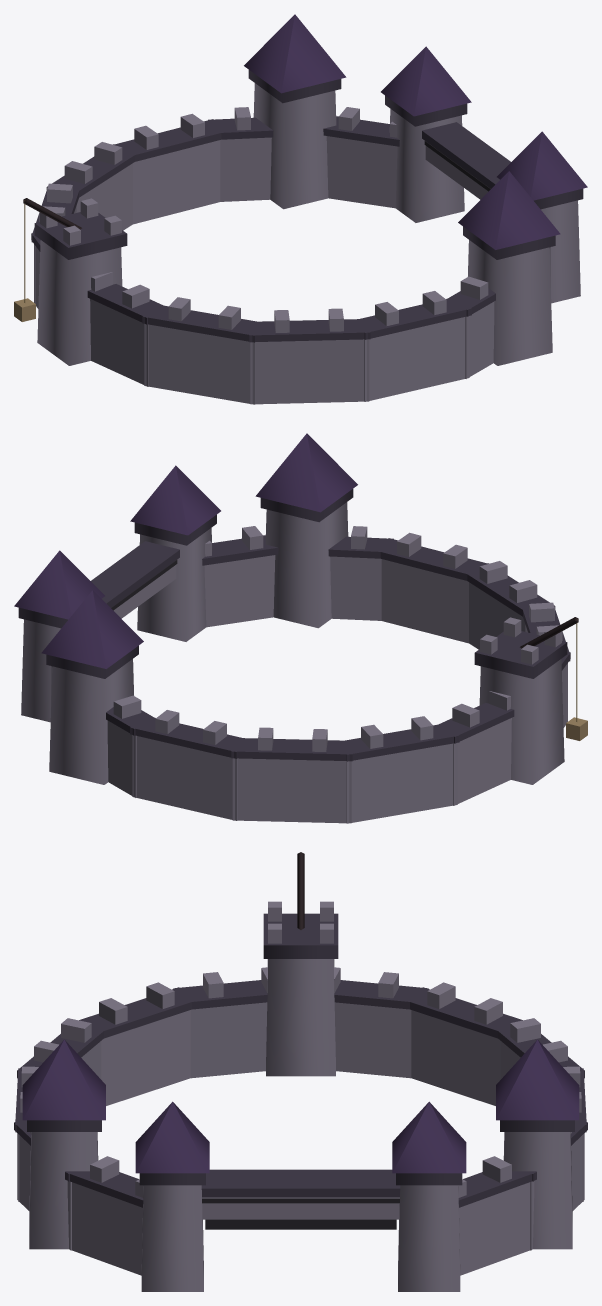
Rendered from base_builder_walls_2.glb.
3 views of the same model, one above another, from view 1: azimuth 30°, elevation 25°; view 2: azimuth 150°, elevation 25°; view 3: azimuth 270°, elevation 25° (orthographic). The views are drawn at different scales.
Visible parts, largest first — view 1: wall_8, tower_300_body, tower_60_body, wall_7, wall_9, tower_180_body, wall_2, gate_tower_n_body, wall_0, tower_60_roof, tower_300_roof, wall_6 (+26 smaller); view 2: wall_3, tower_60_body, tower_300_body, wall_4, wall_2, tower_180_body, wall_9, gate_tower_s_body, wall_11, tower_300_roof, tower_60_roof, wall_5 (+27 smaller); view 3: tower_180_body, gate_tower_n_body, gate_tower_s_body, wall_4, wall_7, tower_60_body, tower_300_body, gate_arch_cap, wall_5, wall_6, wall_0, wall_11 (+32 smaller).
Boxes of the visible parts, x1,y1,x2,y2 form: wall_8: [250, 339, 369, 404]; tower_300_body: [468, 240, 552, 365]; tower_60_body: [253, 83, 336, 209]; wall_7: [144, 324, 255, 404]; wall_9: [364, 316, 469, 401]; tower_180_body: [37, 240, 122, 365]; wall_2: [133, 140, 220, 224]; gate_tower_n_body: [389, 109, 464, 222]; wall_0: [326, 136, 397, 208]; tower_60_roof: [244, 14, 346, 93]; tower_300_roof: [458, 171, 560, 249]; wall_6: [90, 299, 148, 386]; wall_3: [232, 758, 351, 823]; tower_60_body: [49, 659, 133, 784]; tower_300_body: [265, 502, 348, 628]; wall_4: [346, 743, 457, 823]; wall_2: [132, 735, 237, 820]; tower_180_body: [479, 659, 564, 784]; wall_9: [381, 559, 468, 643]; gate_tower_s_body: [137, 528, 212, 641]; wall_11: [204, 555, 275, 627]; tower_300_roof: [255, 433, 357, 512]; tower_60_roof: [41, 590, 143, 668]; wall_5: [453, 718, 511, 805]; tower_180_body: [266, 959, 335, 1076]; gate_tower_n_body: [398, 1185, 460, 1291]; gate_tower_s_body: [141, 1185, 203, 1291]; wall_4: [411, 1010, 500, 1105]; wall_7: [101, 1010, 190, 1105]; tower_60_body: [503, 1132, 572, 1249]; tower_300_body: [29, 1132, 98, 1249]; gate_arch_cap: [201, 1169, 400, 1197]; wall_5: [334, 1002, 411, 1078]; wall_6: [190, 1002, 267, 1078]; wall_0: [459, 1181, 534, 1275]; wall_11: [67, 1181, 142, 1275].
Bounding box in the file's own units: 1.06 × 0.3628 × 0.9666.
